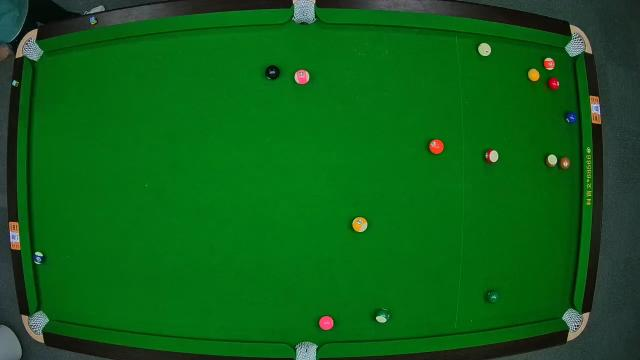bag1: (24, 40, 40, 62)
bag2: (292, 2, 316, 22)
bag3: (566, 34, 584, 56)
bag4: (27, 310, 49, 336)
bag5: (295, 342, 319, 360)
bag6: (562, 308, 584, 332)
ball0: (477, 42, 493, 58)
ball1: (526, 68, 540, 82)
ball10: (32, 252, 46, 266)
ball11: (485, 148, 501, 164)
ball12: (295, 68, 311, 86)
ball13: (543, 57, 557, 69)
ball14: (373, 308, 391, 324)
ball15: (544, 154, 558, 168)
ball2: (565, 111, 579, 127)
ball3: (546, 78, 560, 90)
ball4: (318, 314, 334, 332)
ball5: (426, 136, 444, 156)
ball6: (486, 289, 500, 304)
ball7: (558, 155, 574, 171)
ball8: (264, 64, 282, 80)
ball9: (352, 216, 368, 234)
